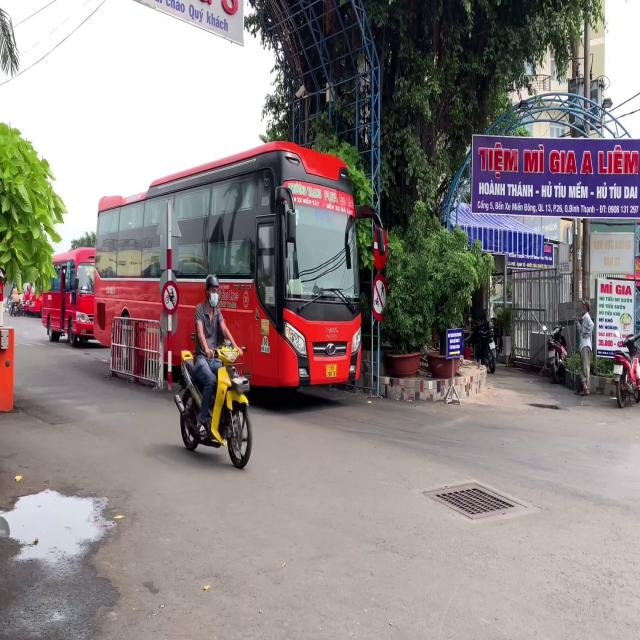bien_vang: (326, 364, 337, 379)
